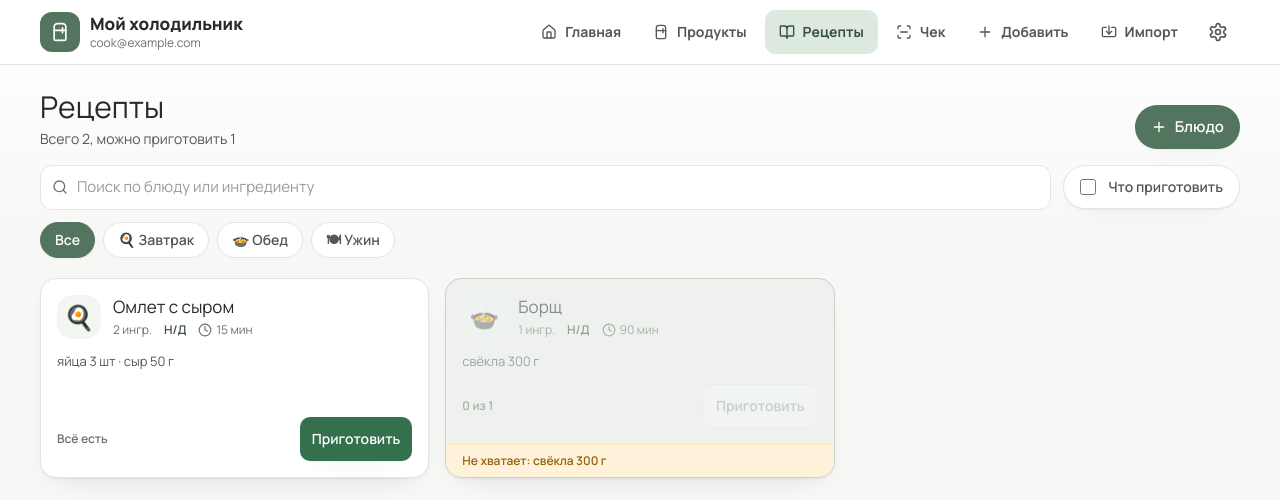
Test: Recipes › поиск ищет по названию блюда и по ингредиентам
expect the text "Омлет с сыром" is shown: met, box [113, 294, 234, 318]
Type "свёкла" into the field labelled "Поиск по блюду или ингредиенту" at (546, 187), box [40, 165, 1051, 210]
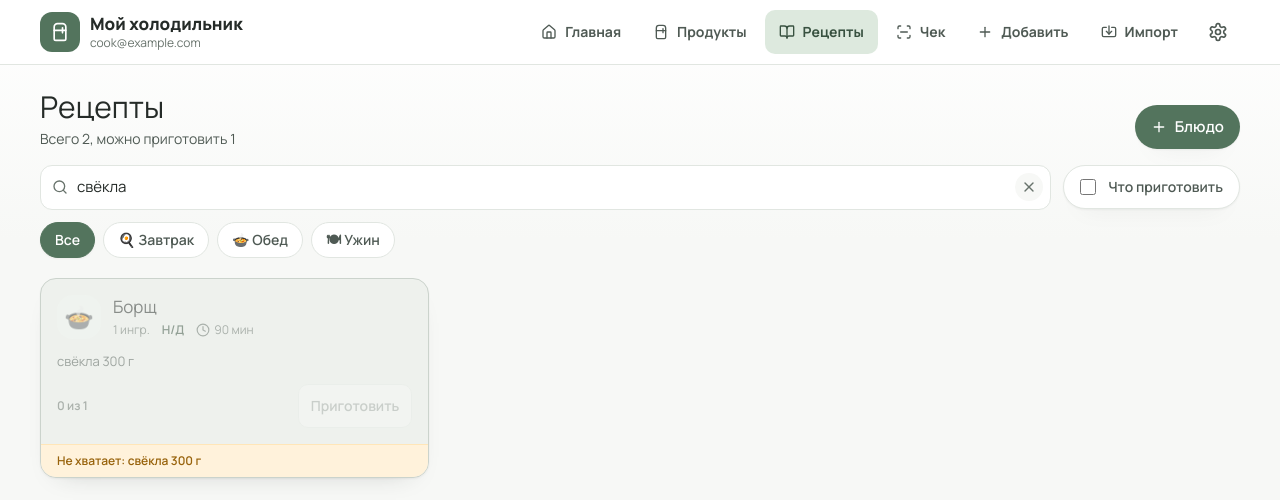
expect the text "Борщ" is shown: met, box [113, 294, 156, 318]
expect the link "Омлет с сыром" is gone: met
Replace the text in the field named "Поиск по блюду или ингредиенту" with "сыр" at (546, 187), box [40, 165, 1051, 210]
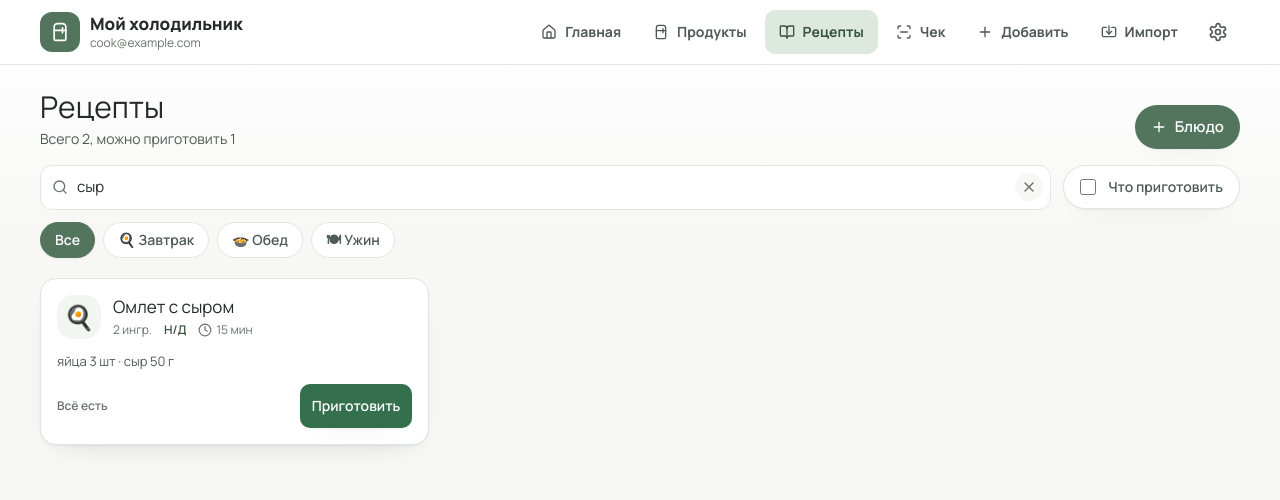
expect the link "Борщ" is gone: met
expect the text "Омлет с сыром" is shown: met, box [113, 294, 234, 318]
